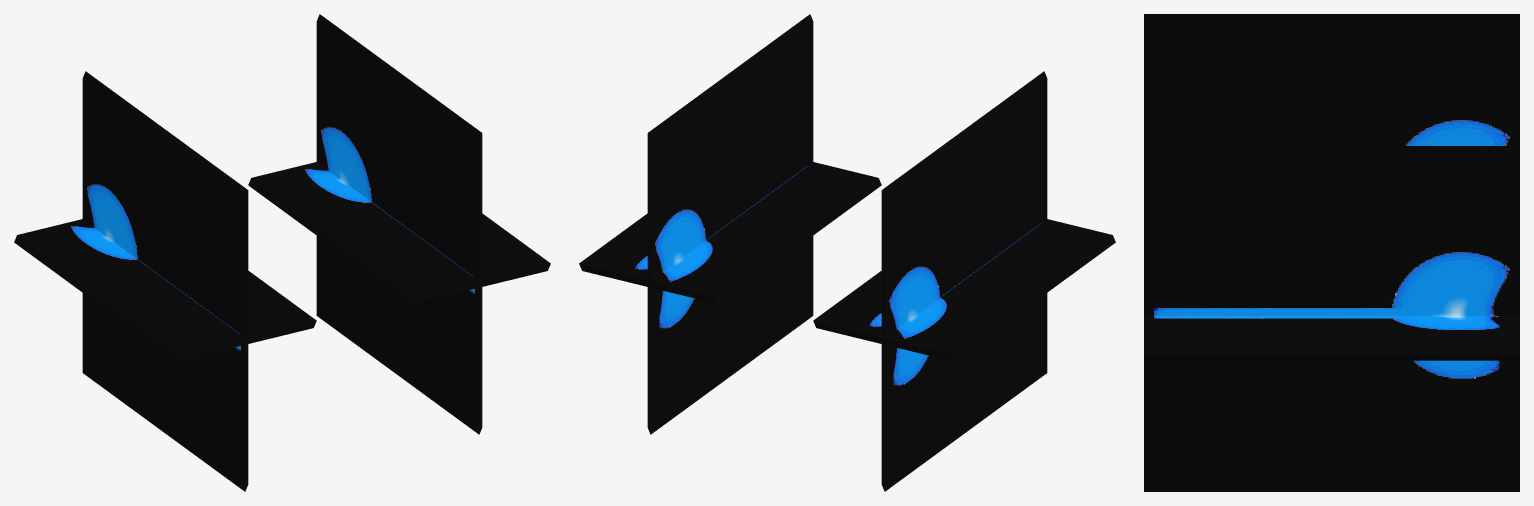
File: laser.glb
The picture shows the model from 3 angles, left to right: view 1: azimuth 30°, elevation 25°; view 2: azimuth 150°, elevation 25°; view 3: azimuth 270°, elevation 25°; orthographic projection. The views are drawn at different scales.
Visible parts, largest first — view 1: Cylindre; view 2: Cylindre; view 3: Cylindre.
Boxes of the visible parts, x1,y1,x2,y2 form: Cylindre: (14, 14, 550, 491); Cylindre: (579, 14, 1115, 491); Cylindre: (1144, 14, 1519, 491).
Bounding box in the file's own units: 6.97 × 5.36 × 5.25.
Materials: 1 (1 with a texture image).
